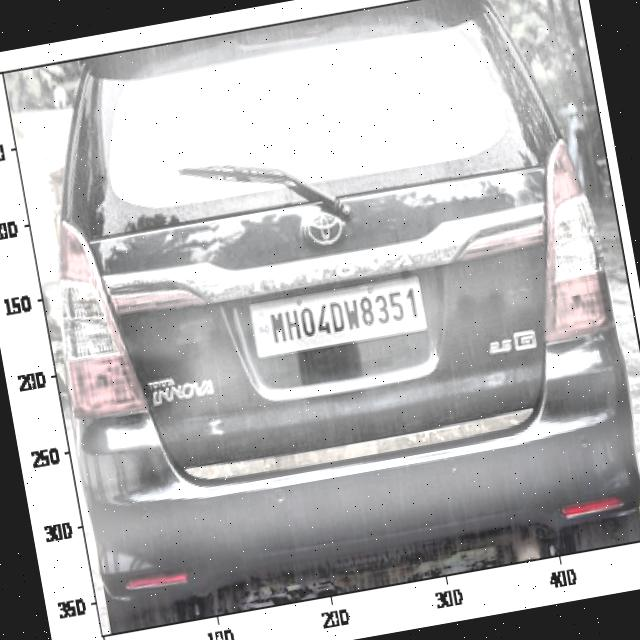license_plate: (258, 274, 431, 360)
